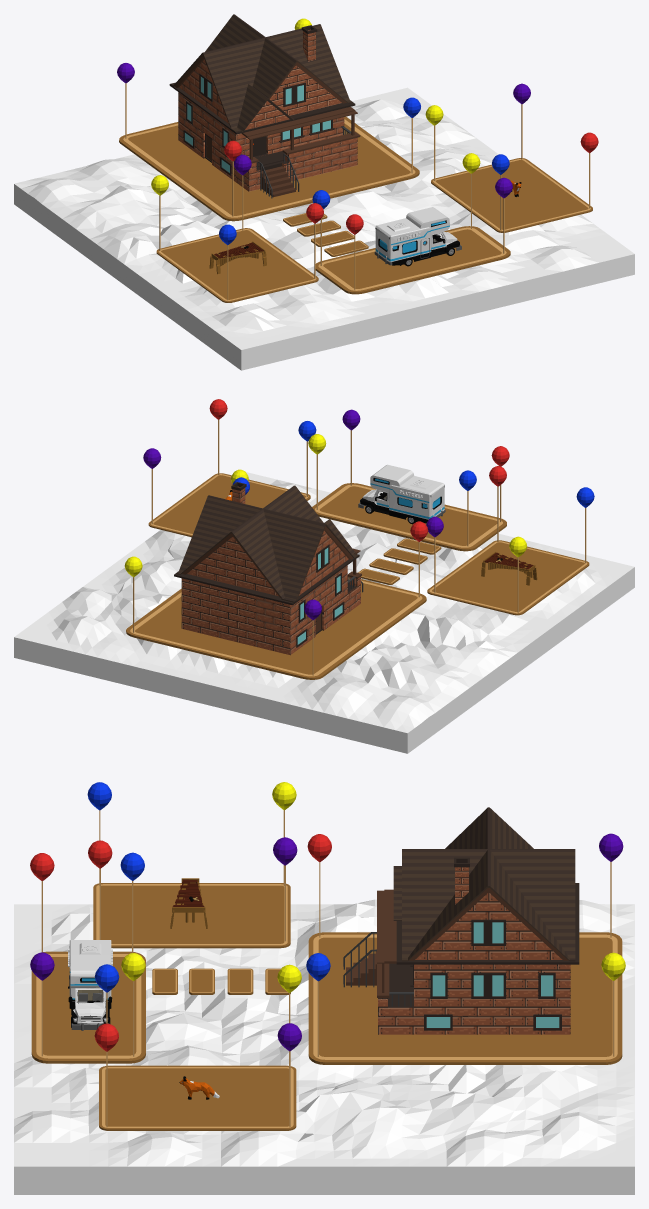
The picture shows the model from 3 angles, top to bottom: view 1: azimuth 30°, elevation 25°; view 2: azimuth 150°, elevation 25°; view 3: azimuth 270°, elevation 25°; orthographic projection. The views are drawn at different scales.
Parts seen in each view (by area): view 1: Cube.013, Cube.469, VEHICLES_CAMPER, OBJRANDOM_MARIMBA; view 2: Cube.013, Cube.469, VEHICLES_CAMPER, OBJRANDOM_MARIMBA; view 3: Cube.013, Cube.469, VEHICLES_CAMPER, OBJRANDOM_MARIMBA.
Boxes of the visible parts, x1,y1,x2,y2 form: Cube.013: (14,18,634,370); Cube.469: (169,14,360,198); VEHICLES_CAMPER: (374,207,461,266); OBJRANDOM_MARIMBA: (209,241,266,274); Cube.013: (14,399,634,753); Cube.469: (174,482,363,655); VEHICLES_CAMPER: (358,464,445,524); OBJRANDOM_MARIMBA: (481,551,537,585); Cube.013: (14,782,634,1194); Cube.469: (343,807,579,1034); VEHICLES_CAMPER: (68,940,112,1030); OBJRANDOM_MARIMBA: (170,878,207,928).
Bounding box in the file's own units: 4000 × 1687 × 4000.
Materials: 34 (2 with a texture image).
